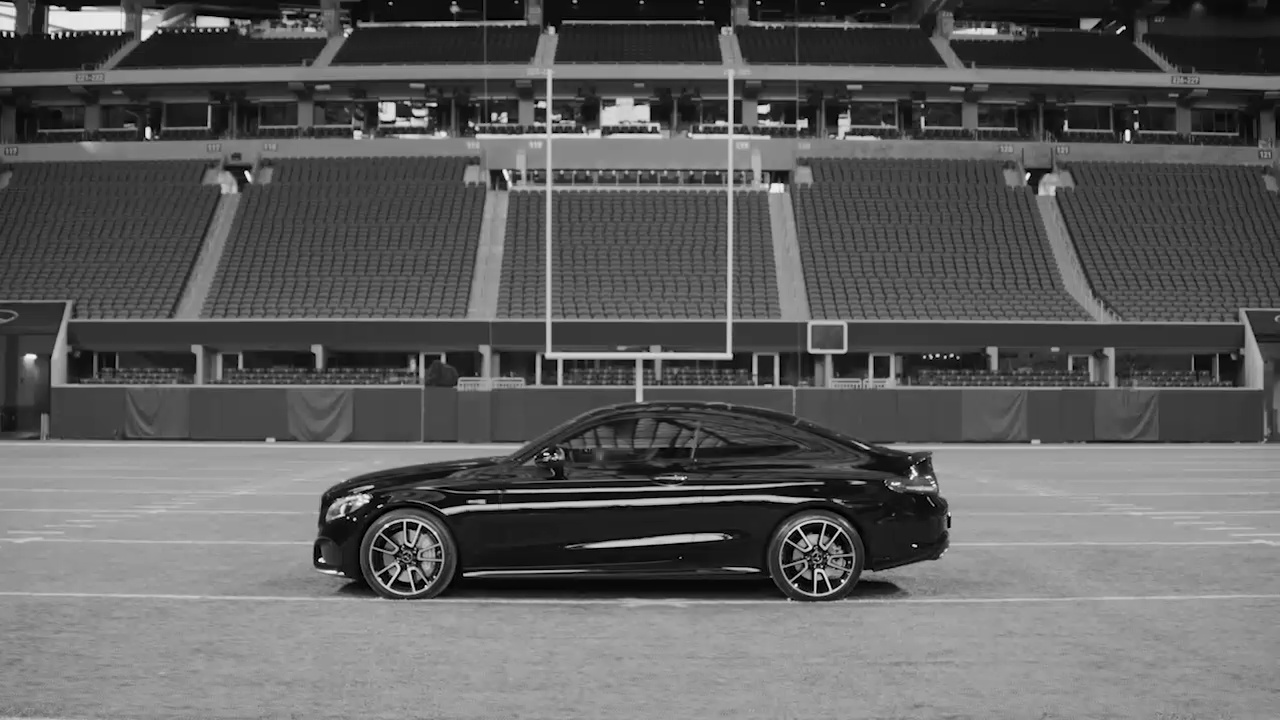car: (311, 392, 957, 609)
